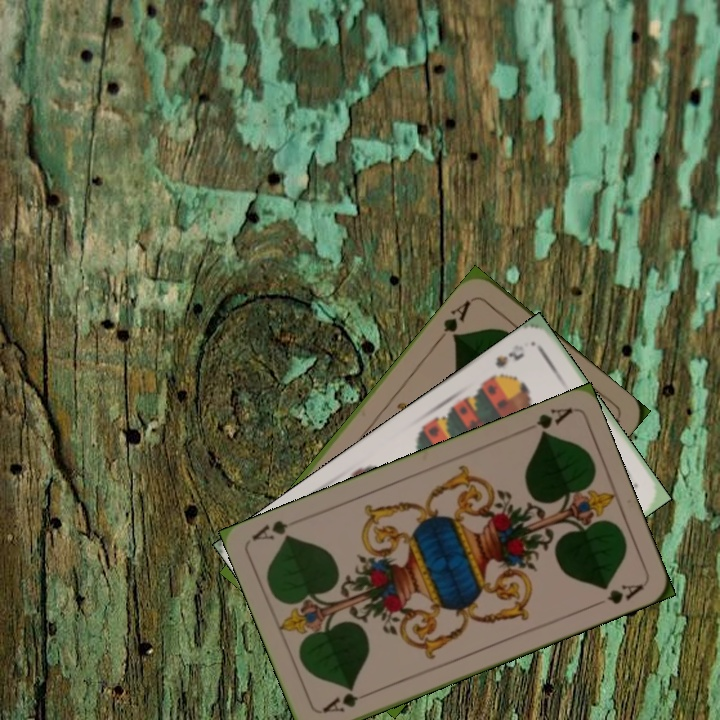GA: (433, 295, 477, 344), (318, 685, 374, 716), (532, 403, 574, 439)
S9: (483, 347, 528, 384)
